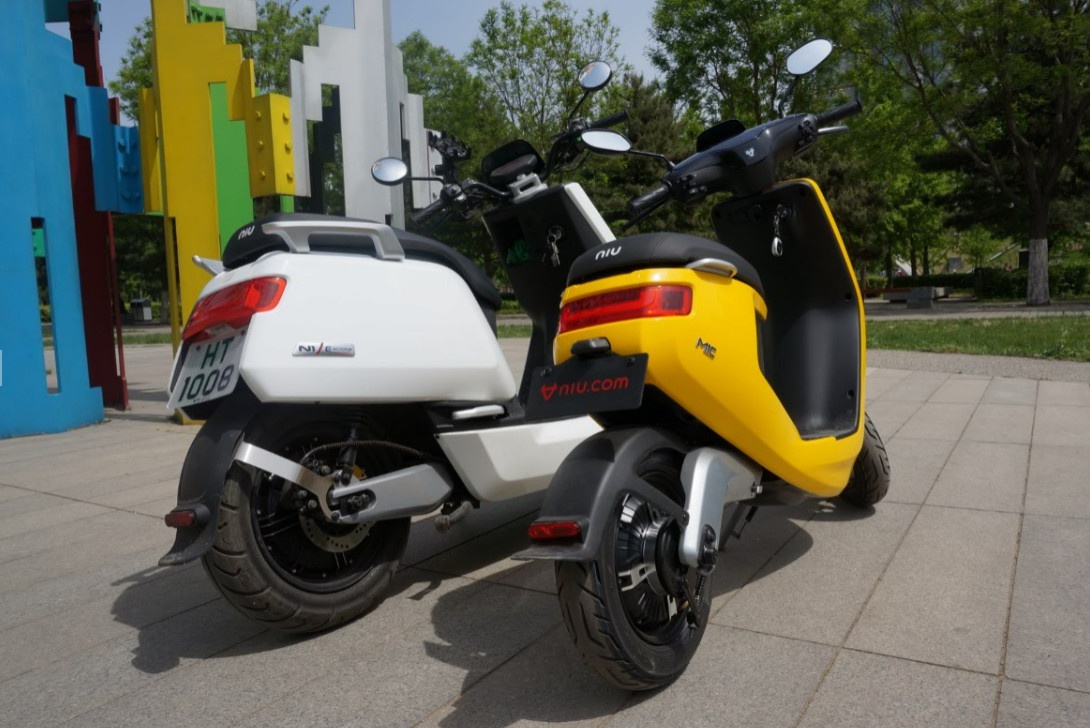non-vehicle: (165, 106, 620, 633), (549, 98, 876, 688)
